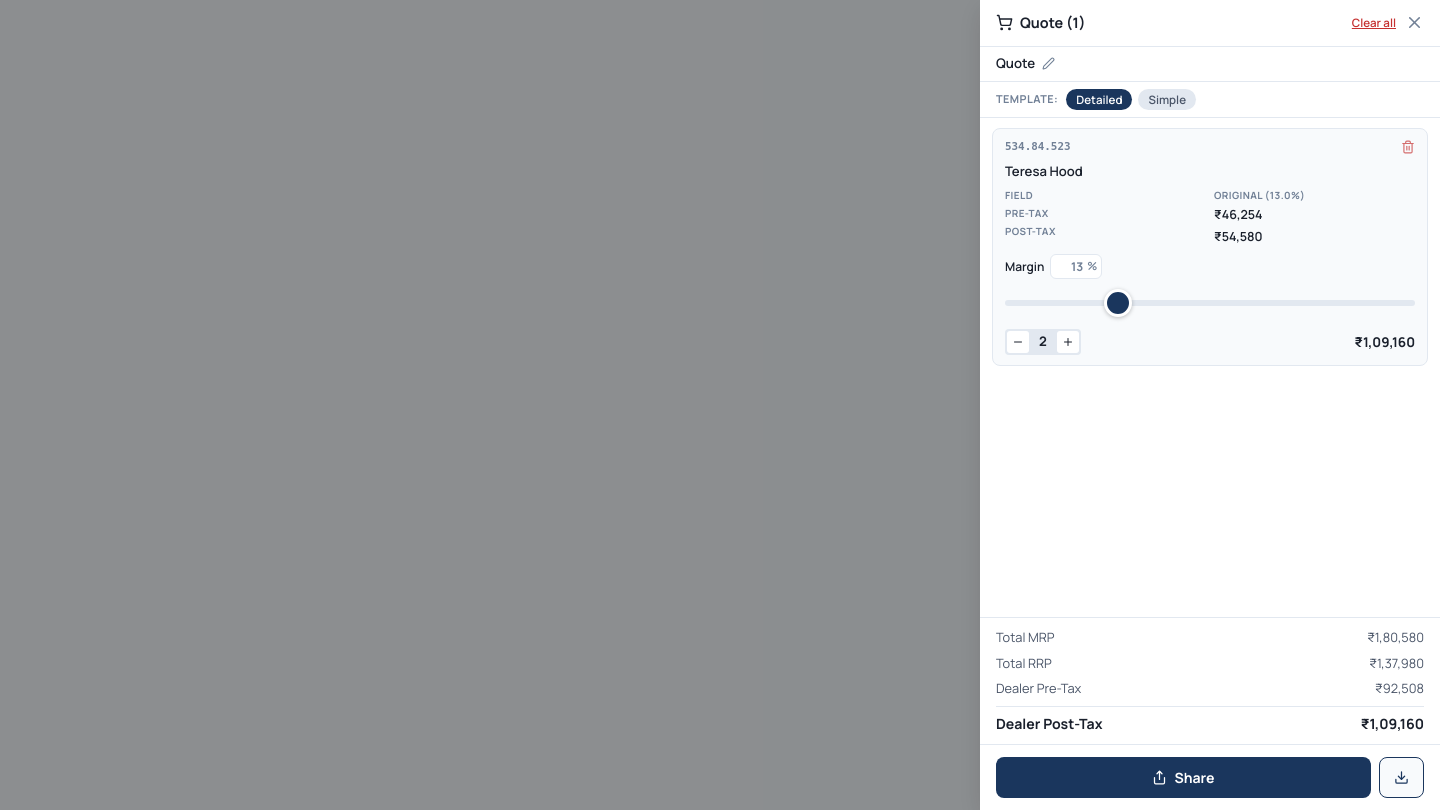
Scenario: QuotePanel — title editing › closes title input on Enter key
Step 1. Click the button named "edit title" → click(1049, 64), box [1042, 57, 1055, 70]
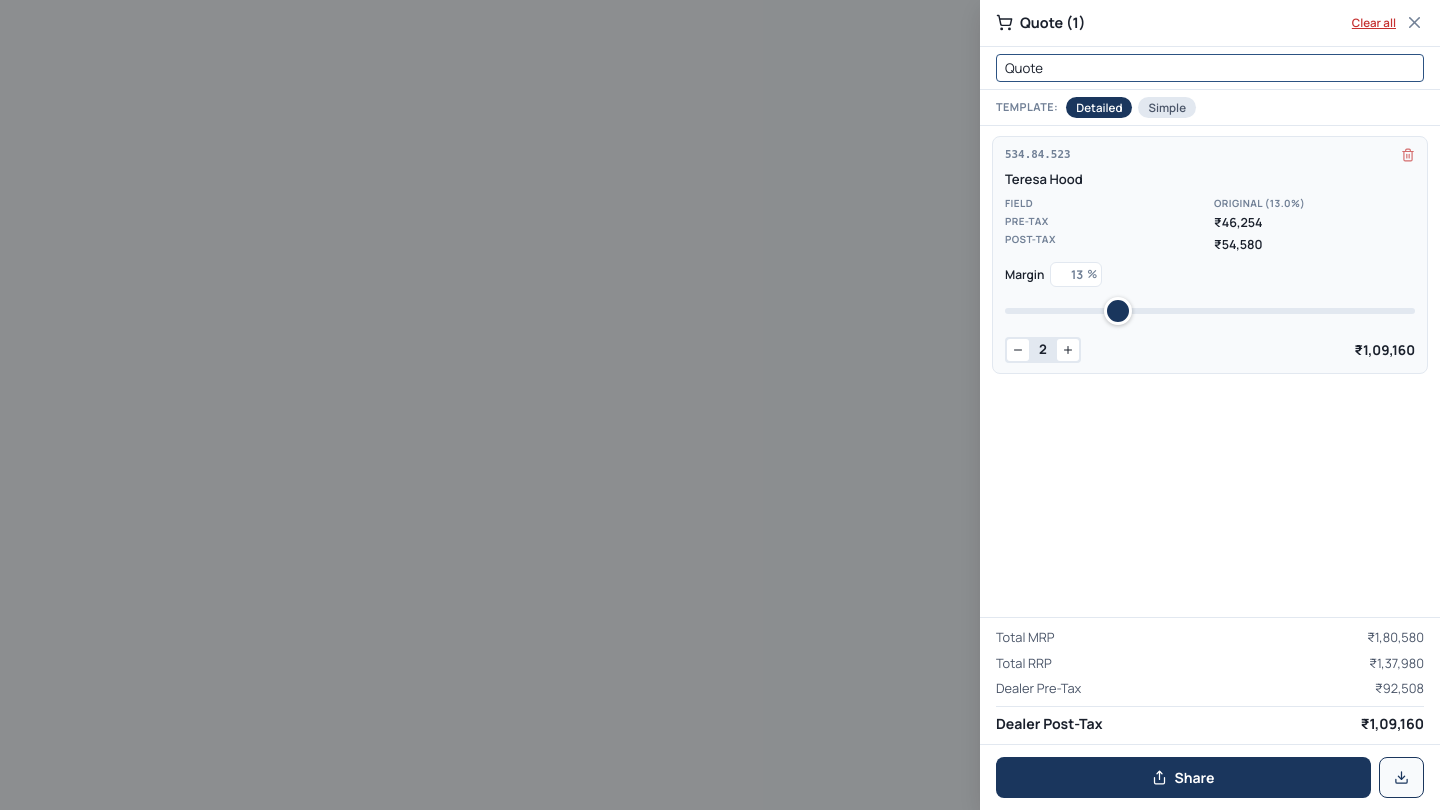
Step 2. Press Enter in the field named "quote title", box [996, 54, 1424, 82]
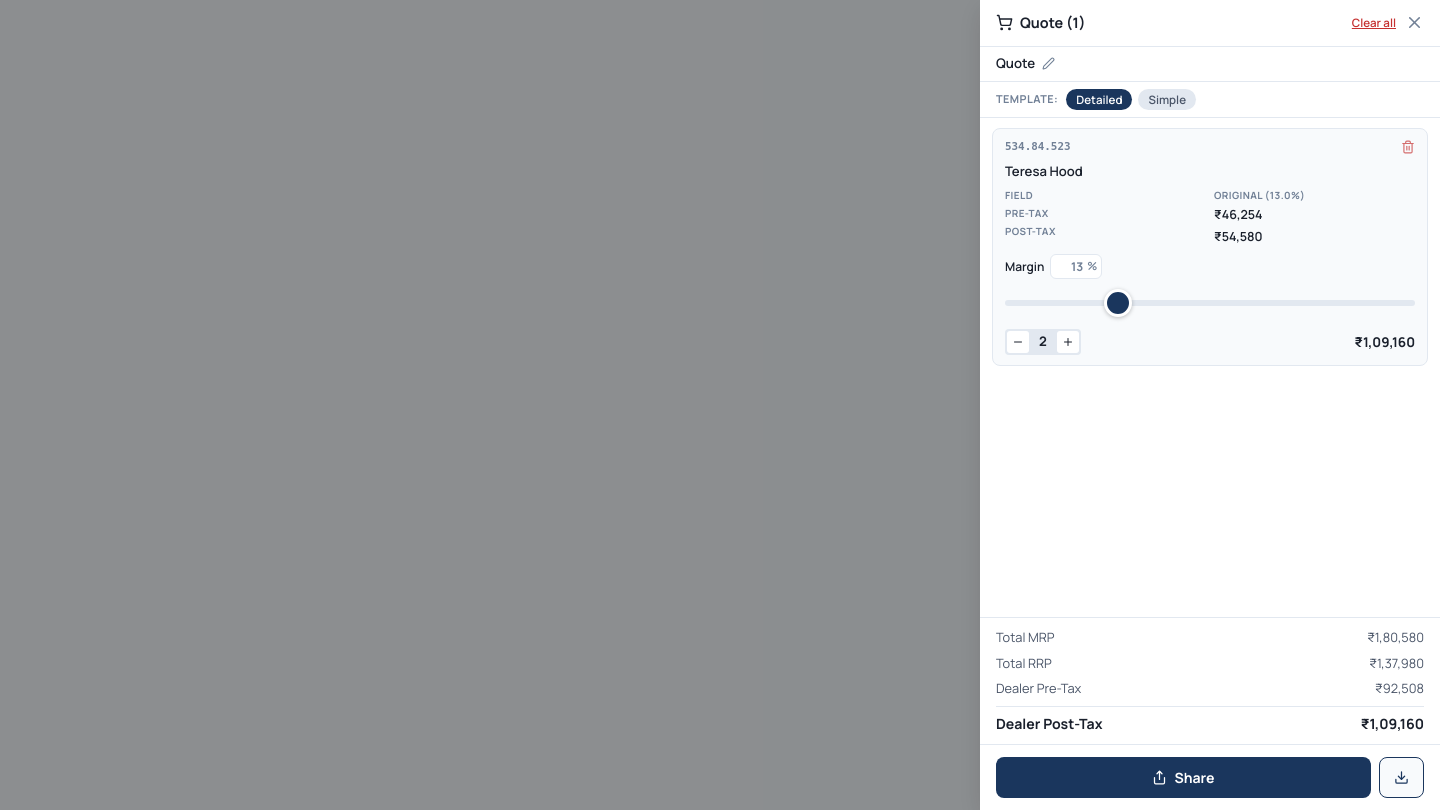
Now the button named "edit title" is shown, box [1042, 57, 1055, 70]
